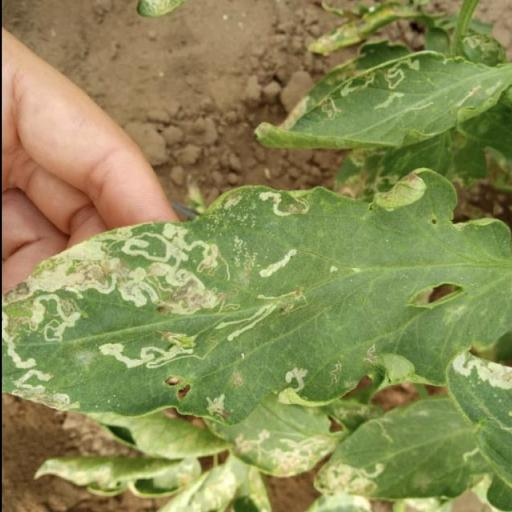Leaf Miner: (0, 169, 512, 426), (252, 52, 512, 152)
